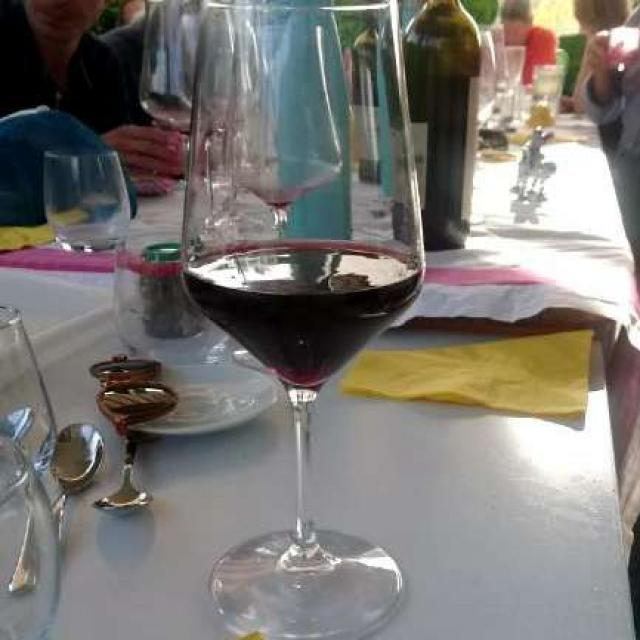wine-red: (190, 250, 418, 377)
